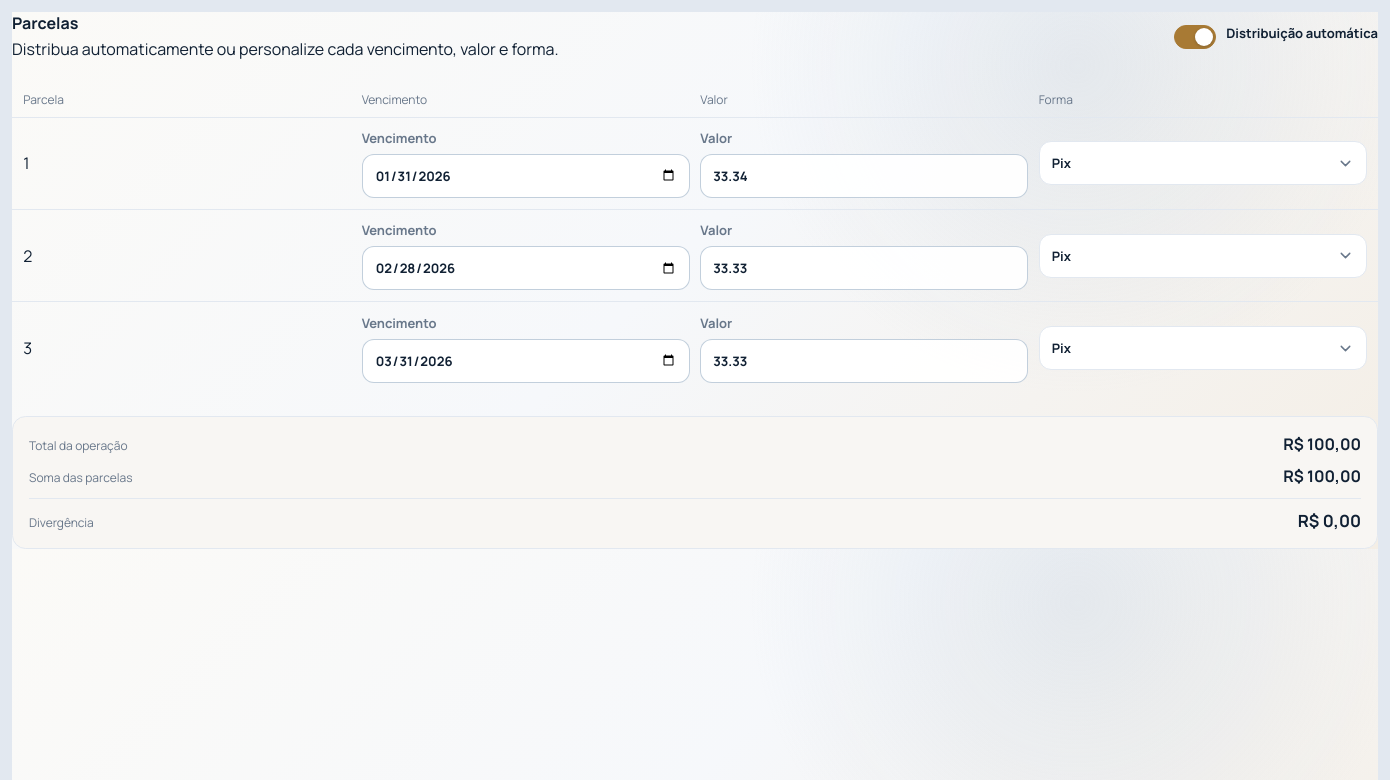
Scenario: InstallmentGrid › gera parcelas e aponta divergência depois de uma edição manual
The width and height of the screenshot is (1390, 780).
Expected: the number of date fields labelled "Vencimento" is 3, [362,154,690,198]; [362,246,690,290]; [362,338,690,382]
Replace the text in the 1st number field labelled "Valor" with "33.35" at (864, 176), box [700,154,1028,198]
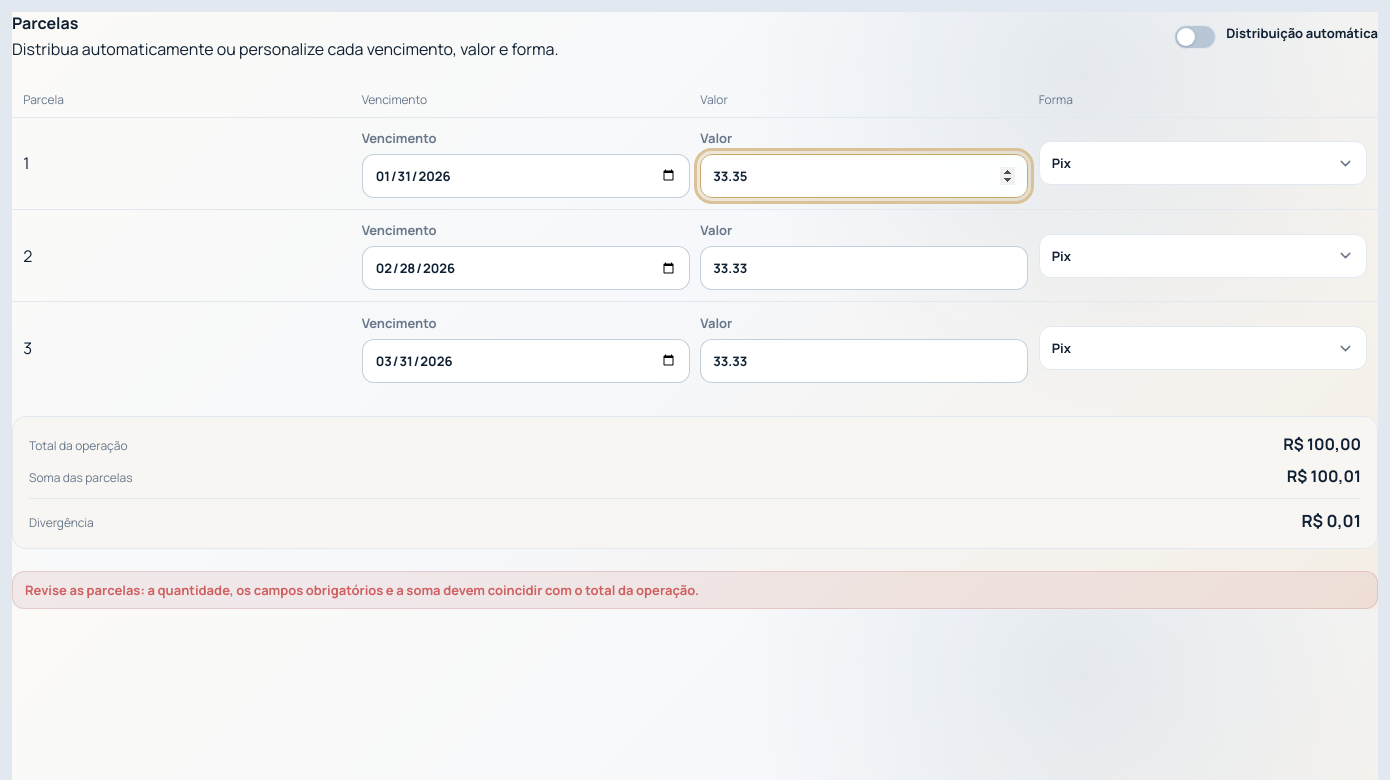
Result: the switch named "Distribuição automática" is not checked at [1174,24,1216,48]
Result: the text "Revise as parcelas" is shown at [25,581,699,599]
Result: the text "R$ 0,01" is shown at [1302,509,1361,532]
